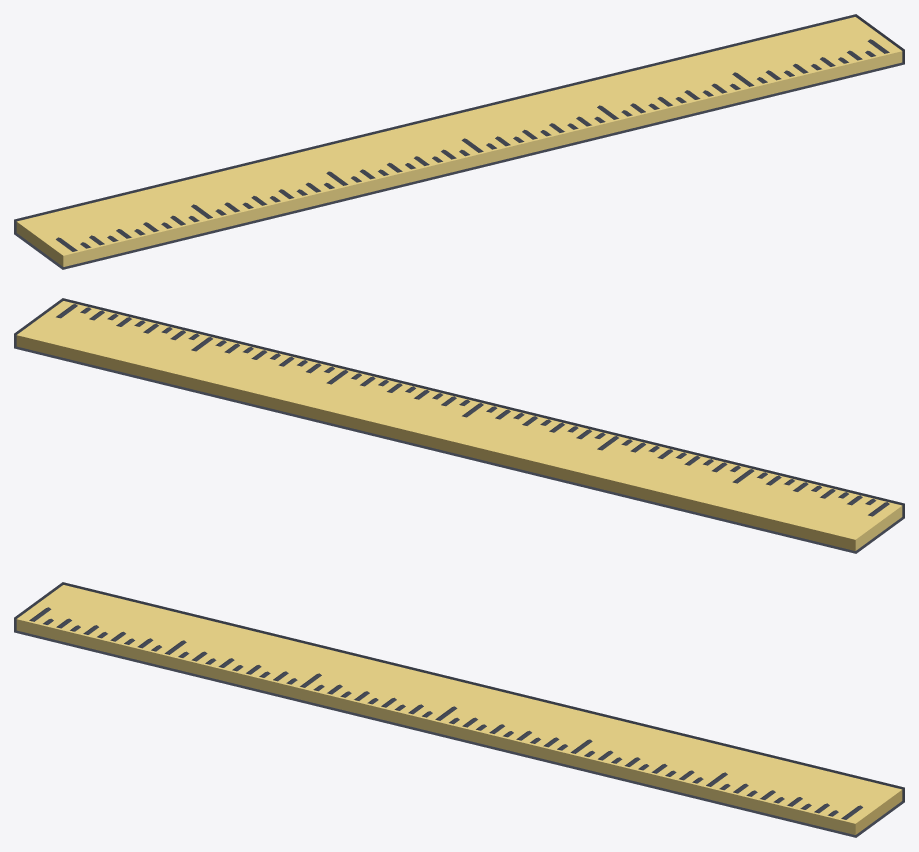
File: ruler_30.glb
3 views of the same model, one above another, from view 1: azimuth 30°, elevation 25°; view 2: azimuth 150°, elevation 25°; view 3: azimuth 330°, elevation 25° (orthographic).
Visible parts, largest first — view 1: ruler, ink_outline; view 2: ruler, ink_outline; view 3: ruler, ink_outline.
Boxes of the visible parts, x1,y1,x2,y2 form: ruler: (16,17,902,266); ink_outline: (14,14,904,269); ruler: (16,301,902,550); ink_outline: (14,298,904,553); ruler: (16,585,902,834); ink_outline: (14,582,904,837).
Size of the model in its own units: 0.3112 by 0.0052 by 0.0312.
